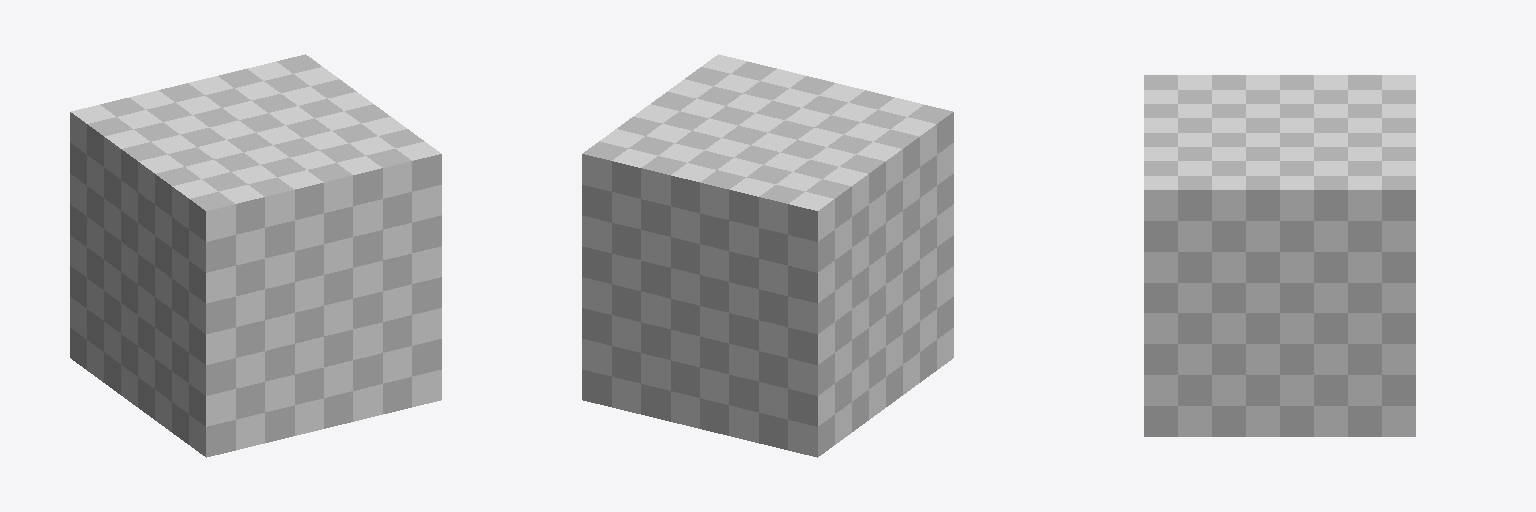
The picture shows the model from 3 angles: view 1: azimuth 30°, elevation 25°; view 2: azimuth 150°, elevation 25°; view 3: azimuth 270°, elevation 25°; orthographic projection.
Parts seen in each view (by area): view 1: cube; view 2: cube; view 3: cube.
Boxes of the visible parts, x1,y1,x2,y2 form: cube: [70, 54, 441, 457]; cube: [582, 54, 953, 457]; cube: [1144, 75, 1415, 436].
Bounding box in the file's own units: 1 × 1 × 1.
1 materials, 1 textured.